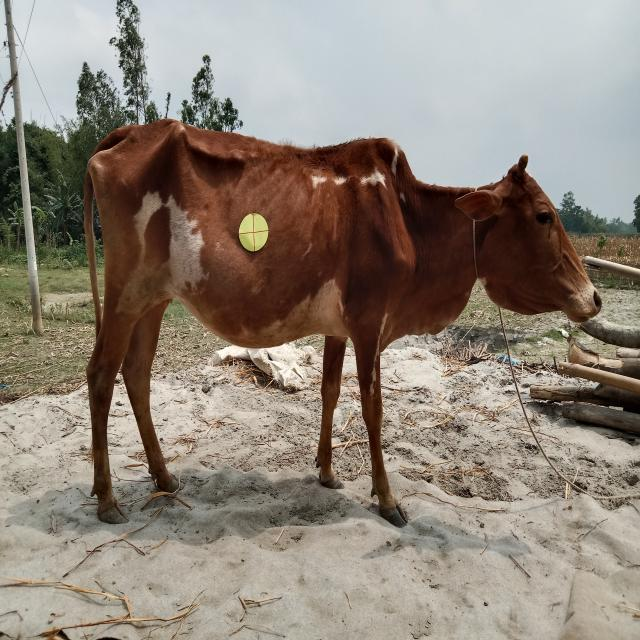badan_sapi: (84, 142, 412, 349)
sapi: (68, 104, 602, 536)
